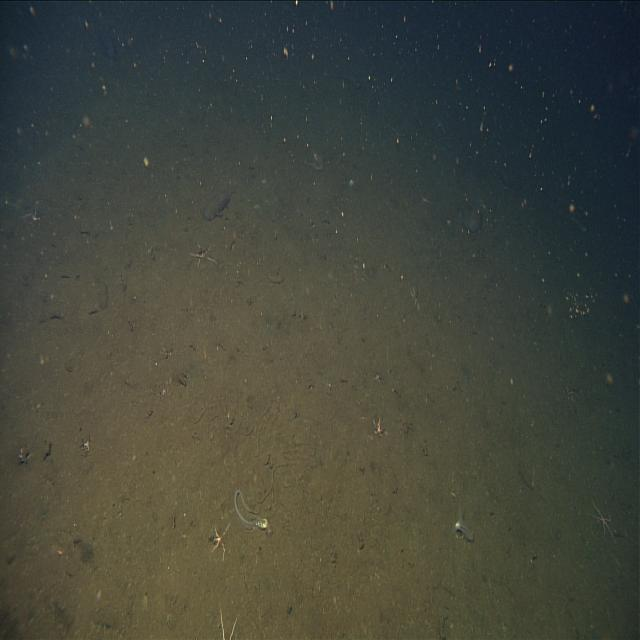Brittle Star: (584, 499, 616, 548), (186, 238, 220, 270), (211, 519, 232, 562)
Not Brittle Star: (231, 480, 275, 540), (448, 499, 476, 546), (201, 186, 232, 224)
